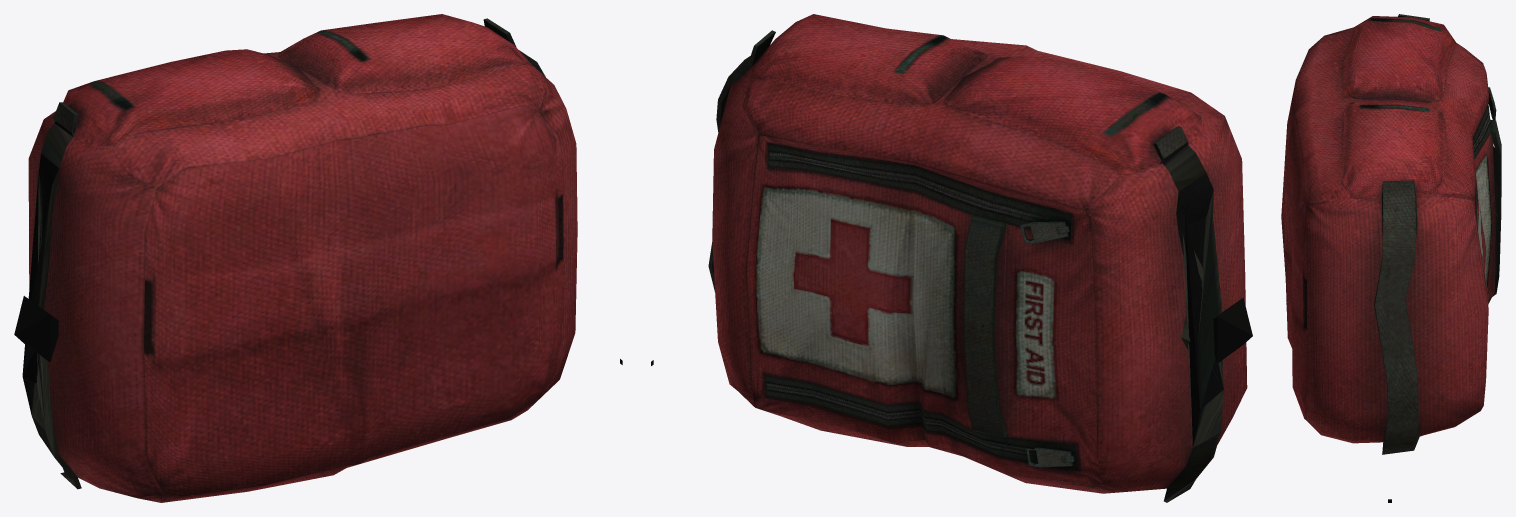
File: health.DAE
3 renders of one model, left to right at view 1: azimuth 30°, elevation 25°; view 2: azimuth 150°, elevation 25°; view 3: azimuth 270°, elevation 25°, orthographic. The views are drawn at different scales.
Visible parts, largest first — view 1: _null_; view 2: _null_; view 3: _null_.
Part boxes in pixels (x1,y1,x2,y2): _null_: (14,14,622,502); _null_: (651,14,1252,502); _null_: (1281,14,1501,502).
Bounding box in the file's own units: 18.3 × 7.55 × 11.23.
Materials: 1 (1 with a texture image).
